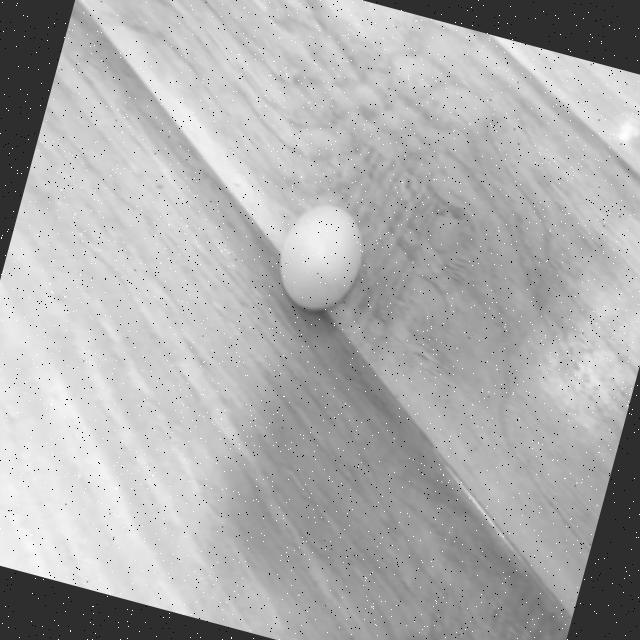ping-pong-ball: (268, 196, 373, 319)
